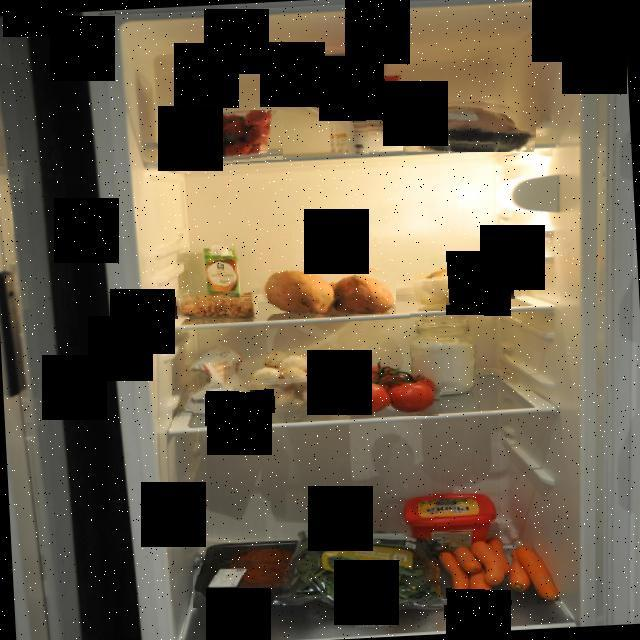beef: (194, 537, 324, 608)
butter: (399, 490, 502, 552)
carrot: (434, 530, 562, 605)
chicken: (403, 96, 538, 152)
flour: (172, 342, 256, 426)
heavy_cream: (204, 242, 242, 309)
mushrooms: (248, 348, 339, 414)
potato: (414, 258, 521, 308)
shrimp: (172, 291, 258, 319)
spinach: (270, 520, 450, 618)
strawberries: (174, 110, 284, 166)
sugar: (410, 312, 484, 399), (328, 75, 406, 156)
sweet_potato: (259, 260, 396, 314)
tomato: (340, 355, 443, 416)
